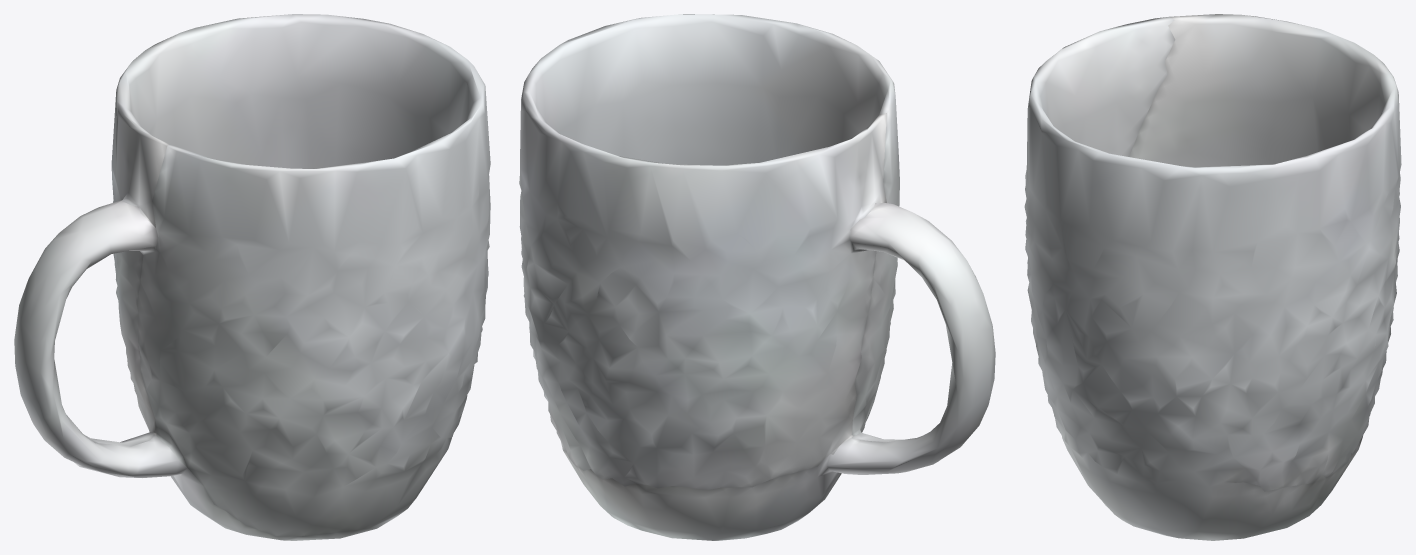
File: Threshold_Porcelain_Coffee_Mug_All_Over_Bead_White-medium.glb
3 renders of one model, left to right at view 1: azimuth 30°, elevation 25°; view 2: azimuth 150°, elevation 25°; view 3: azimuth 270°, elevation 25°, orthographic.
Visible parts, largest first — view 1: Threshold_Porcelain_Coffee_Mug_All_Over_Bead_White; view 2: Threshold_Porcelain_Coffee_Mug_All_Over_Bead_White; view 3: Threshold_Porcelain_Coffee_Mug_All_Over_Bead_White.
Part boxes in pixels (<box>): Threshold_Porcelain_Coffee_Mug_All_Over_Bead_White: <box>14,14,490,540</box>; Threshold_Porcelain_Coffee_Mug_All_Over_Bead_White: <box>519,14,995,540</box>; Threshold_Porcelain_Coffee_Mug_All_Over_Bead_White: <box>1024,14,1401,540</box>.
Size of the model in its own units: 0.1307 by 0.1146 by 0.0965.
Materials: 1 (1 with a texture image).
